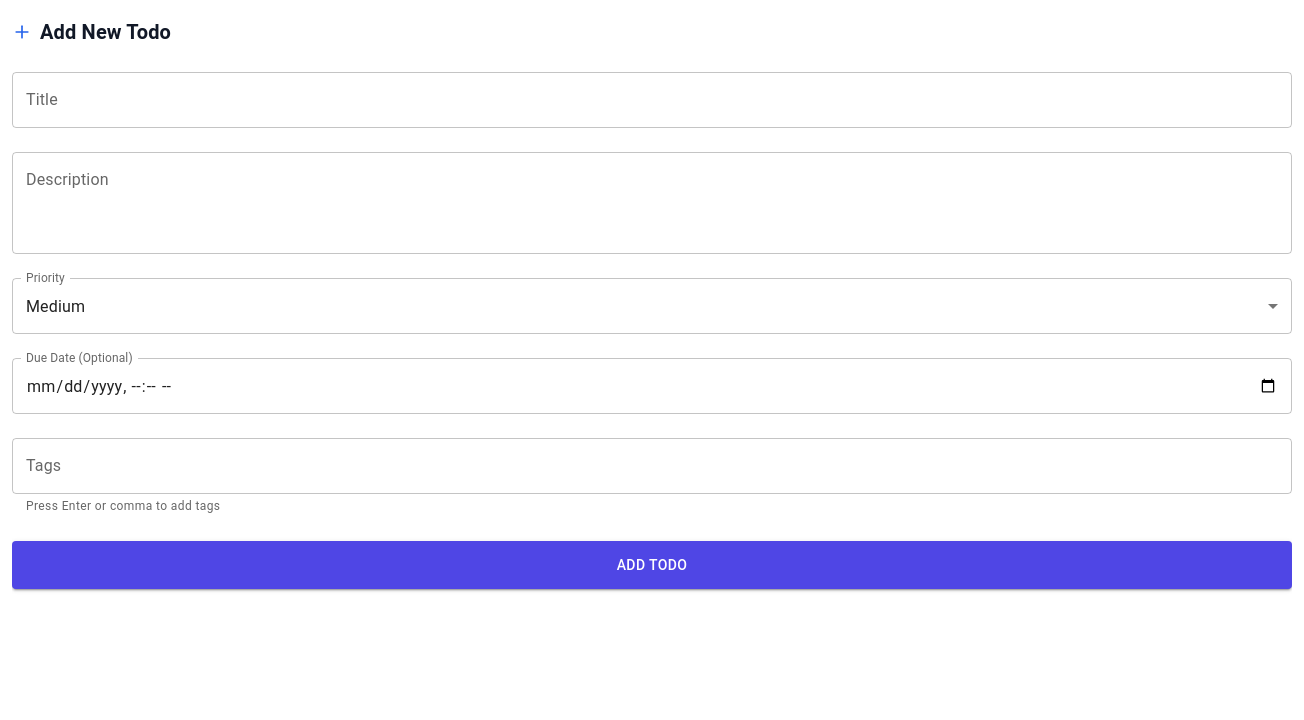
TodoForm › adds tag on Enter key press
The image size is (1304, 720).
Type a tag
Type "urgent" into the field with placeholder "Type and press Enter or comma to add tags...". click: (652, 466)
box: [12,438,1292,494]
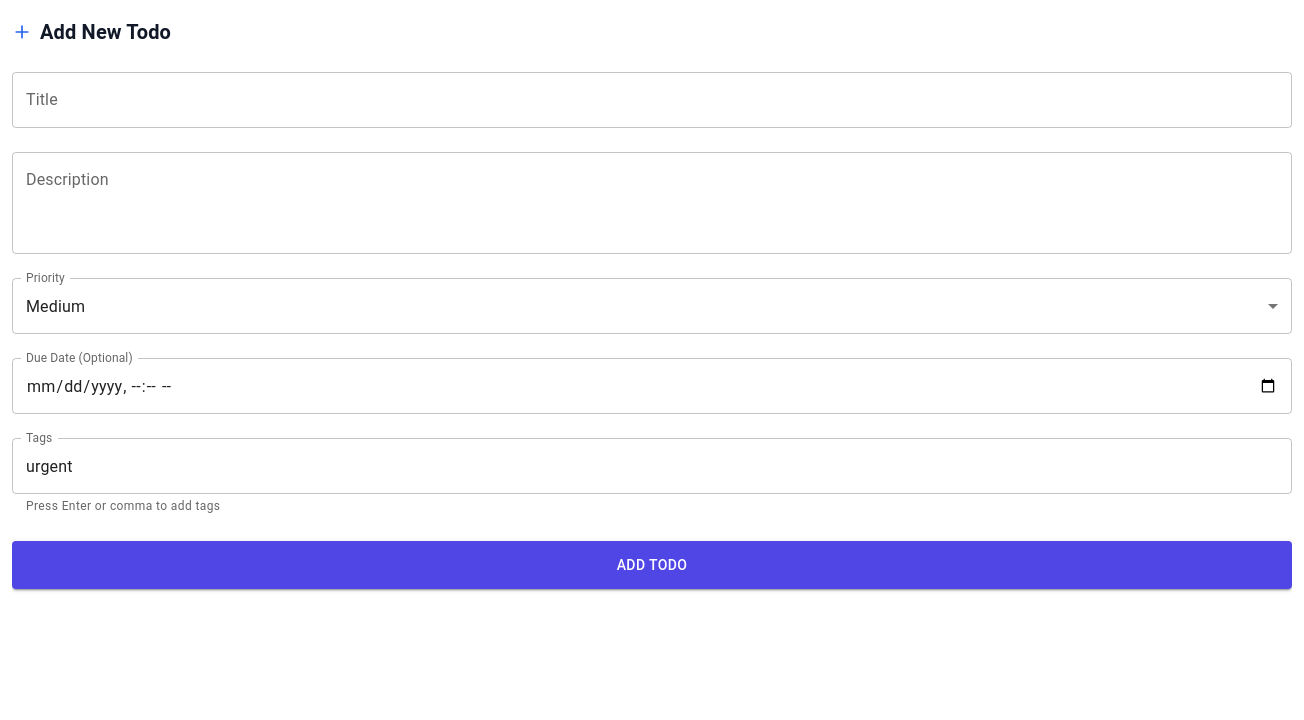
Press Enter
Press Enter in the field with placeholder "Type and press Enter or comma to add tags...", box [12,438,1292,494]
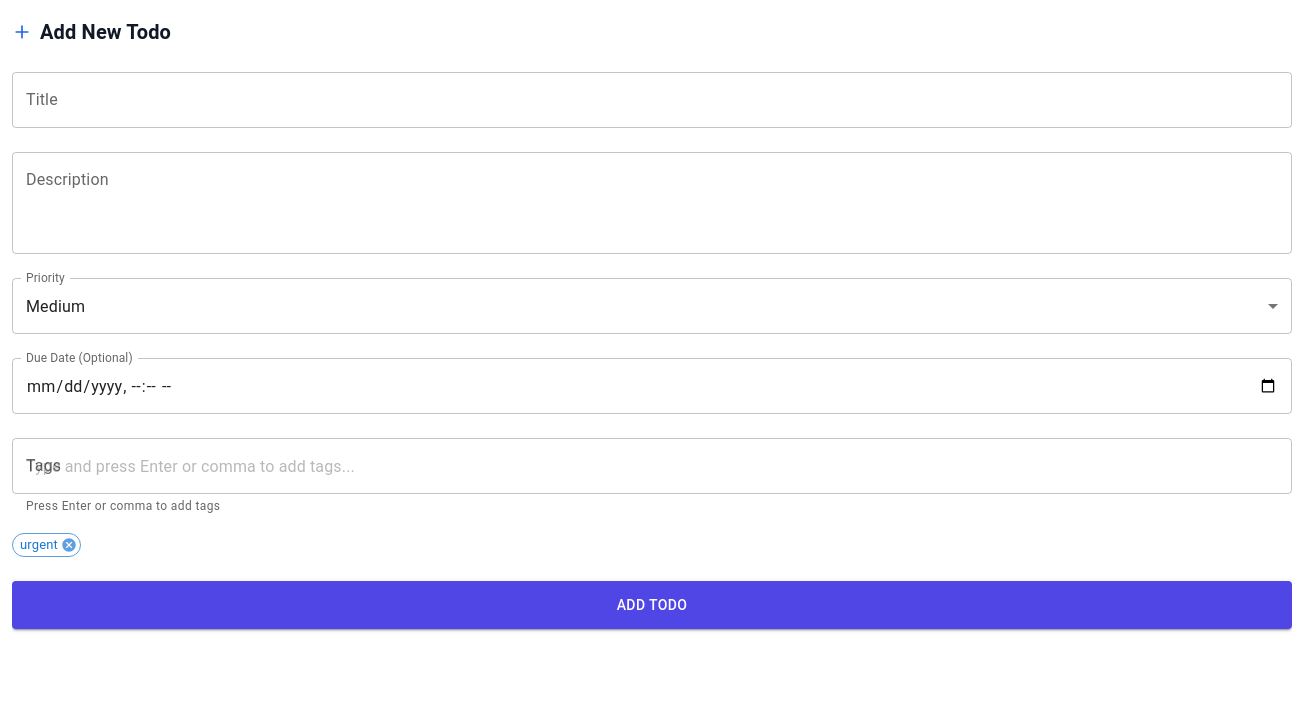
Check: the text "urgent" is shown, box [20,537,58,552]
Check: the field with placeholder "Type and press Enter or comma to add tags..." is empty, box [12,438,1292,494]
